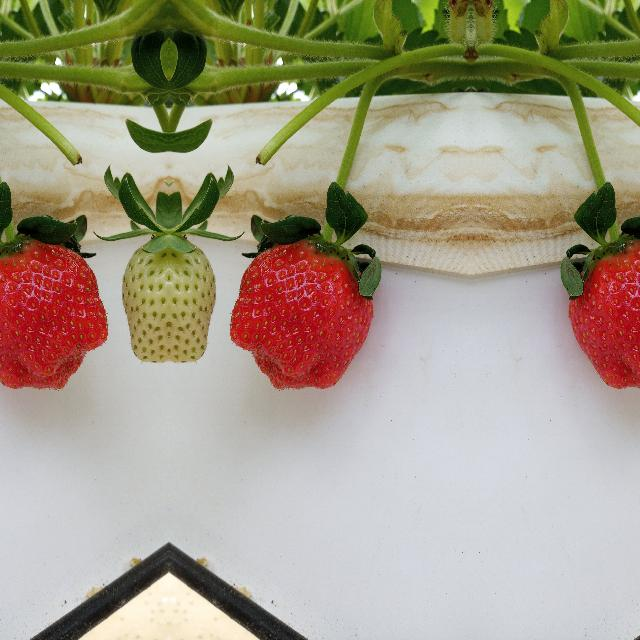Health_100: (227, 238, 373, 390), (0, 237, 109, 390), (568, 237, 640, 390)
Health_25: (168, 216, 218, 368), (118, 216, 168, 368)
